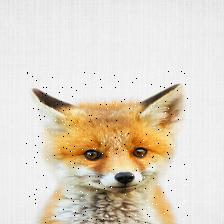fox: (26, 71, 188, 224)
